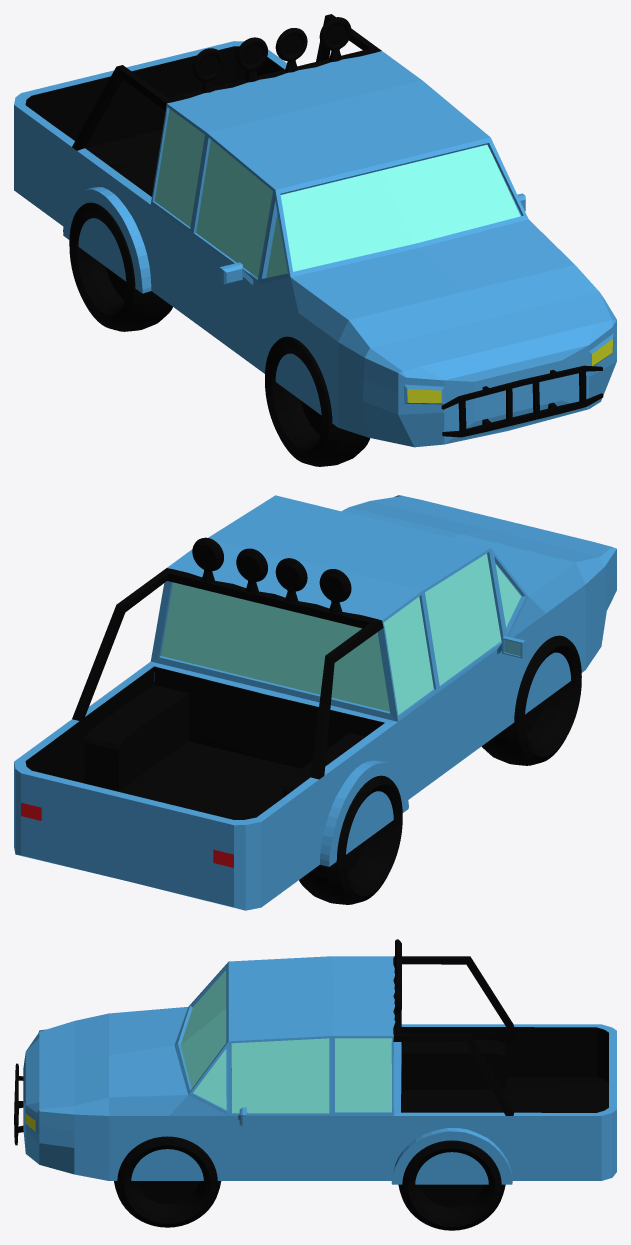
File: car2.fbx
3 views of the same model, one above another, from view 1: azimuth 30°, elevation 25°; view 2: azimuth 150°, elevation 25°; view 3: azimuth 270°, elevation 25° (orthographic). The views are drawn at different scales.
Parts seen in each view (by area): view 1: Plane, Torus.007, Torus; view 2: Plane, Torus.007, Torus; view 3: Plane, Torus.005, Torus.004.
Boxes of the visible parts, x1,y1,x2,y2 form: Plane: (14, 14, 616, 447); Torus.007: (265, 336, 370, 466); Torus: (69, 202, 172, 331); Plane: (14, 495, 616, 910); Torus.007: (481, 635, 581, 765); Torus: (299, 775, 402, 904); Plane: (14, 939, 616, 1184); Torus.005: (114, 1136, 221, 1227); Torus.004: (398, 1140, 505, 1230).
Bounding box in the file's own units: 740 × 680 × 1680.
